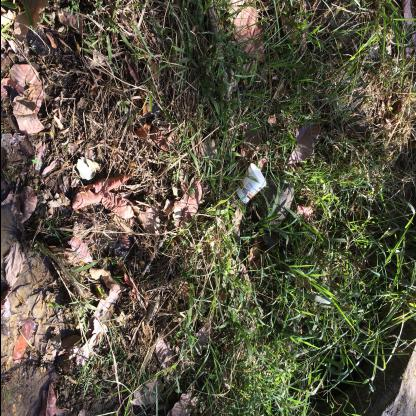karton: (234, 164, 266, 204)
